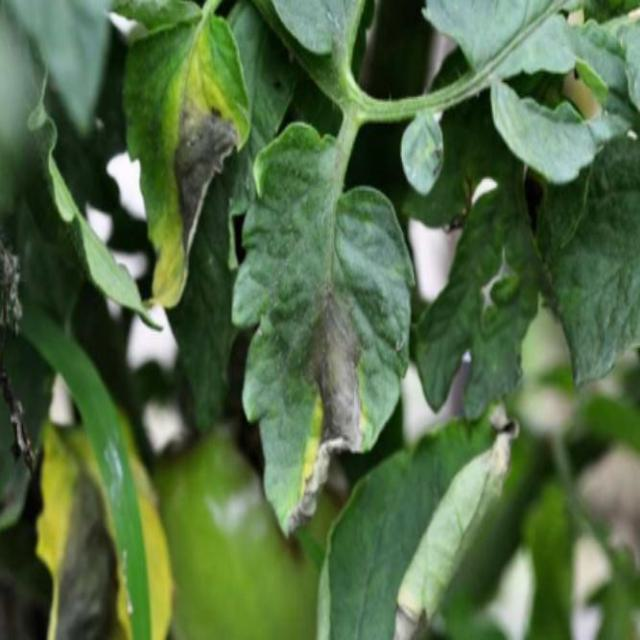Late_blight: (33, 417, 179, 640), (280, 280, 364, 537), (168, 90, 239, 273)
